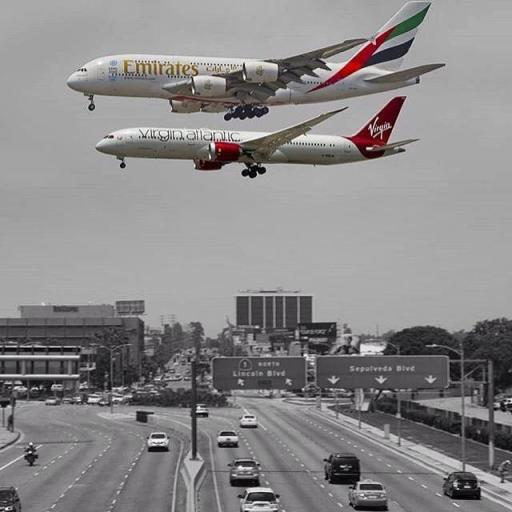Emirates: (120, 56, 201, 78)
